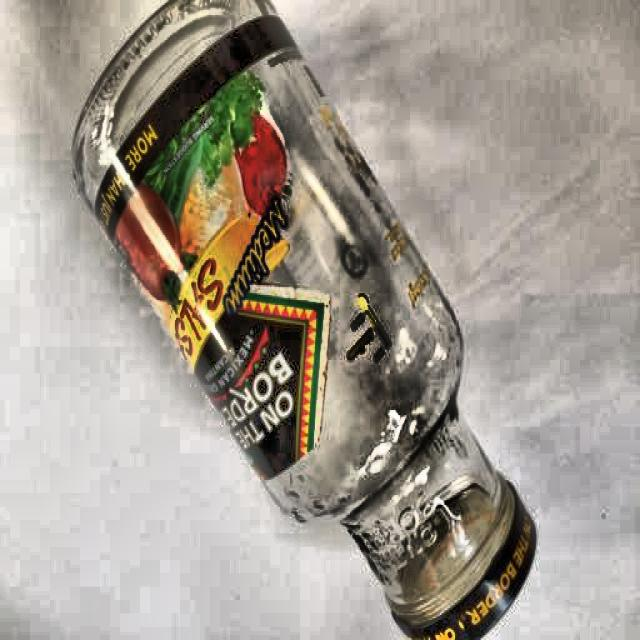glass: (67, 0, 536, 640)
